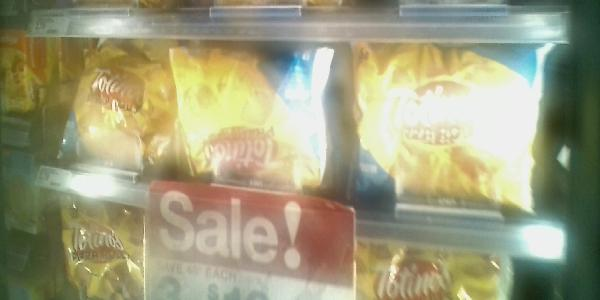icecream: (344, 40, 537, 219), (169, 47, 335, 191), (55, 38, 177, 186)
